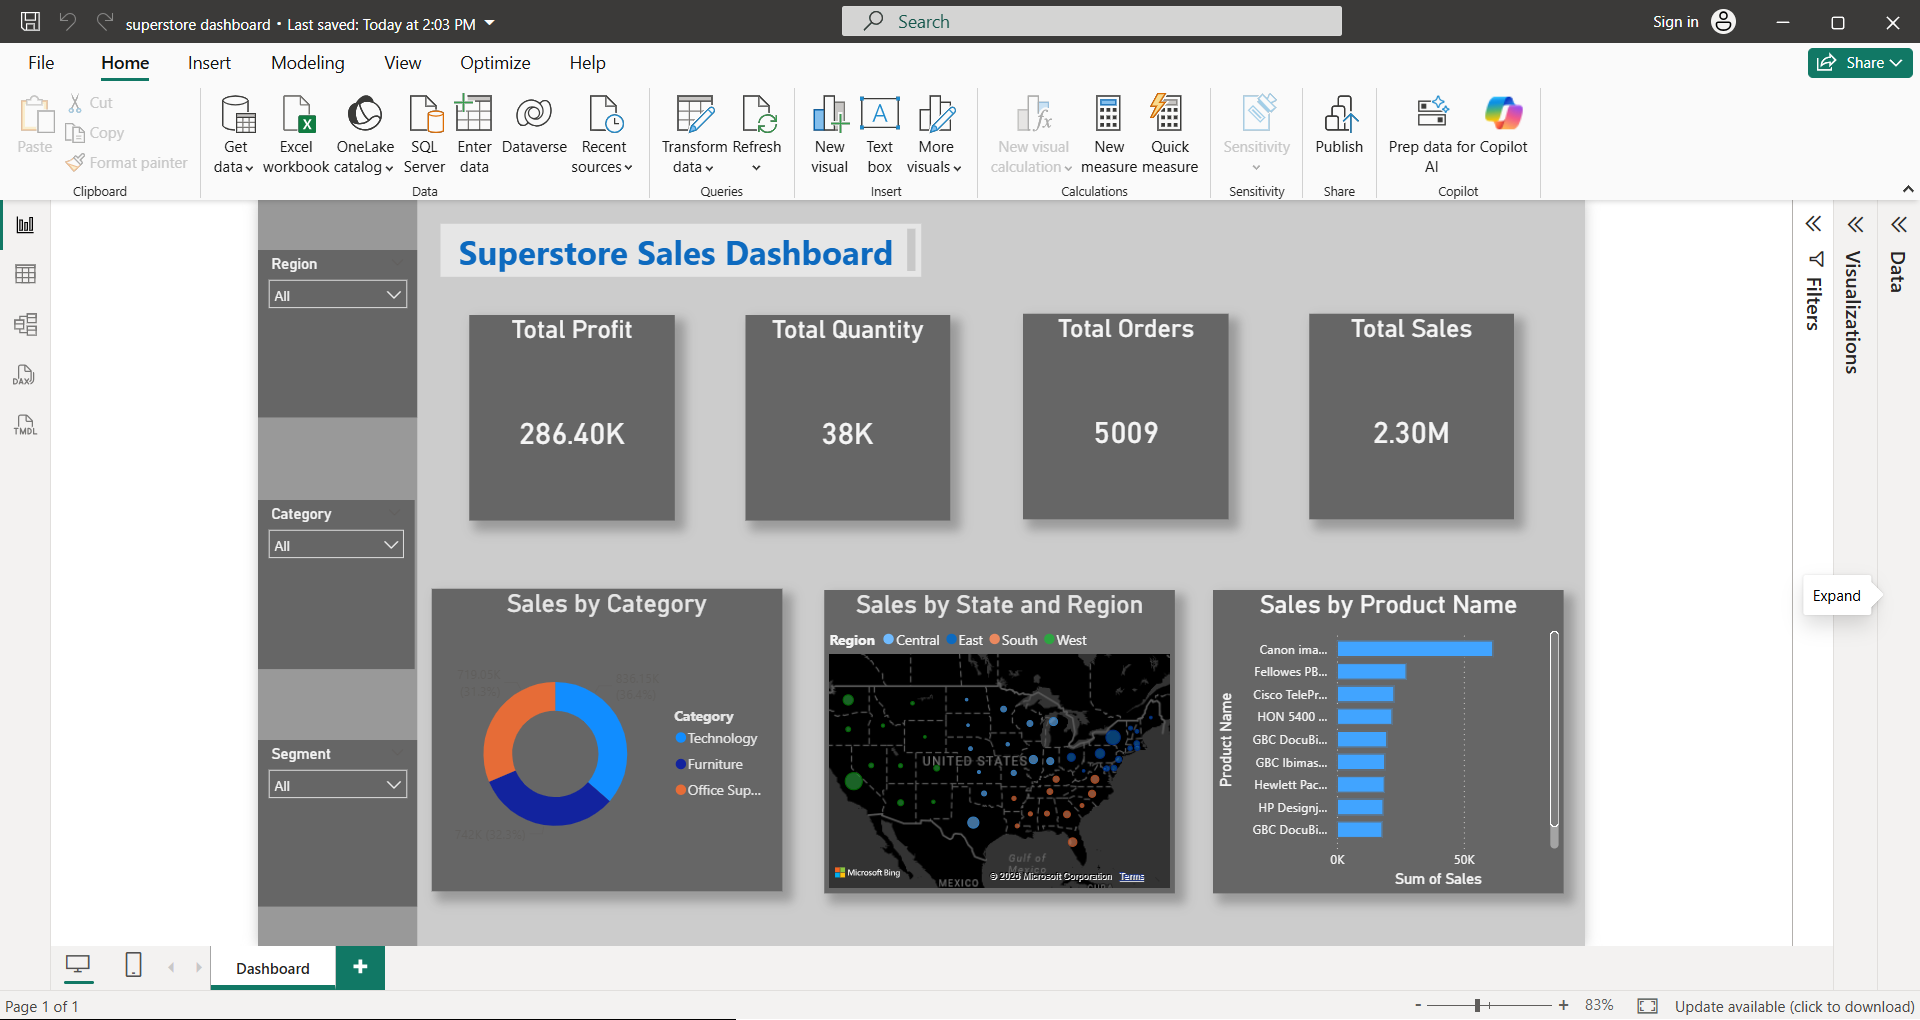

The page's visual inventory and layout, read from the dashboard file:
{"tool":"powerbi","page":{"name":"Dashboard","canvas":[1280,720],"ordinal":0},"visuals":[{"type":"card","title":"Total Profit","fields":{"Values":["Sum(Sample - Superstore.Profit)"]},"box":[203.8,111.2,198.8,198.8],"z":0},{"type":"card","title":"Total Quantity","fields":{"Values":["Sum(Sample - Superstore.Quantity)"]},"box":[470,111.2,197.5,198.8],"z":1000},{"type":"card","title":"Total Orders","fields":{"Values":["Count(Sample - Superstore.Order ID)"]},"box":[738.8,110,198.8,198.8],"z":2000},{"type":"card","title":"Total Sales","fields":{"Values":["Sum(Sample - Superstore.Sales)"]},"box":[1015,110,197.5,198.8],"z":3000},{"type":"donutChart","title":" Sales by Category","fields":{"Category":["Sample - Superstore.Category"],"Y":["Sum(Sample - Superstore.Sales)"]},"box":[167.1,375.7,338,292],"z":4000},{"type":"clusteredBarChart","title":"Sales by Product Name","fields":{"Category":["Sample - Superstore.Product Name"],"Y":["Sum(Sample - Superstore.Sales)"]},"box":[921.2,376.2,338.8,292.5],"z":5000},{"type":"map","title":"Sales by State and Region","fields":{"Category":["Sample - Superstore.State"],"Series":["Sample - Superstore.Region"],"Size":["Sum(Sample - Superstore.Sales)"]},"box":[546.2,376.2,338.8,292.5],"z":7000},{"type":"textbox","box":[176.2,22.5,463.8,51.2],"z":8000},{"type":"shape","box":[0,0,153.8,720],"z":9000},{"type":"slicer","fields":{"Values":["Sample - Superstore.Region"]},"box":[0,48.8,153.8,161.2],"z":10000},{"type":"slicer","fields":{"Values":["Sample - Superstore.Category"]},"box":[0,290,151,163],"z":11000},{"type":"slicer","fields":{"Values":["Sample - Superstore.Segment"]},"box":[0,521.2,153.8,161],"z":12000}]}

Visuals, with their boxes on the page's 1280x720 design canvas (x1, y1, x2, y2). These are canvas units, not pixel positions in the 1920x1020 screenshot, which may show the page scaled, cropped or inside an application window:
"Total Profit" card: x1=204 y1=111 x2=403 y2=310
"Total Quantity" card: x1=470 y1=111 x2=668 y2=310
"Total Orders" card: x1=739 y1=110 x2=938 y2=309
"Total Sales" card: x1=1015 y1=110 x2=1212 y2=309
" Sales by Category" donutChart: x1=167 y1=376 x2=505 y2=668
"Sales by Product Name" clusteredBarChart: x1=921 y1=376 x2=1260 y2=669
"Sales by State and Region" map: x1=546 y1=376 x2=885 y2=669
textbox: x1=176 y1=22 x2=640 y2=74
shape: x1=0 y1=0 x2=154 y2=720
slicer - Sample - Superstore.Region: x1=0 y1=49 x2=154 y2=210
slicer - Sample - Superstore.Category: x1=0 y1=290 x2=151 y2=453
slicer - Sample - Superstore.Segment: x1=0 y1=521 x2=154 y2=682
